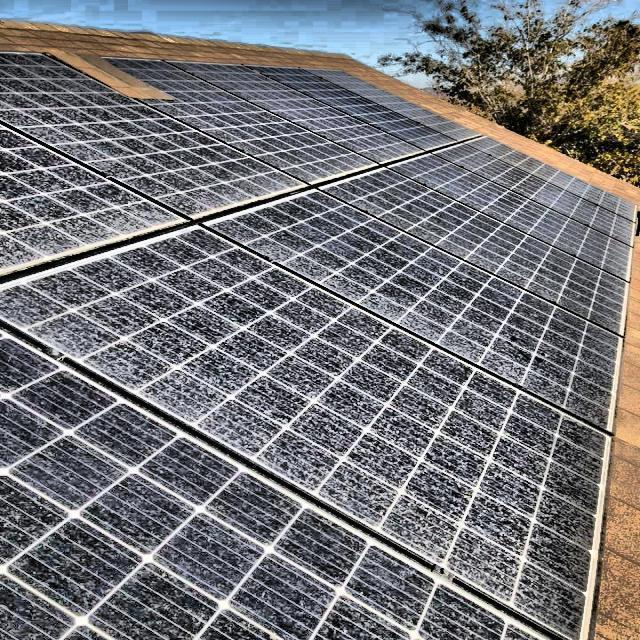Anomaly Solar Panel: (0, 51, 633, 639)
Surface Contaminant: (0, 52, 637, 639)
